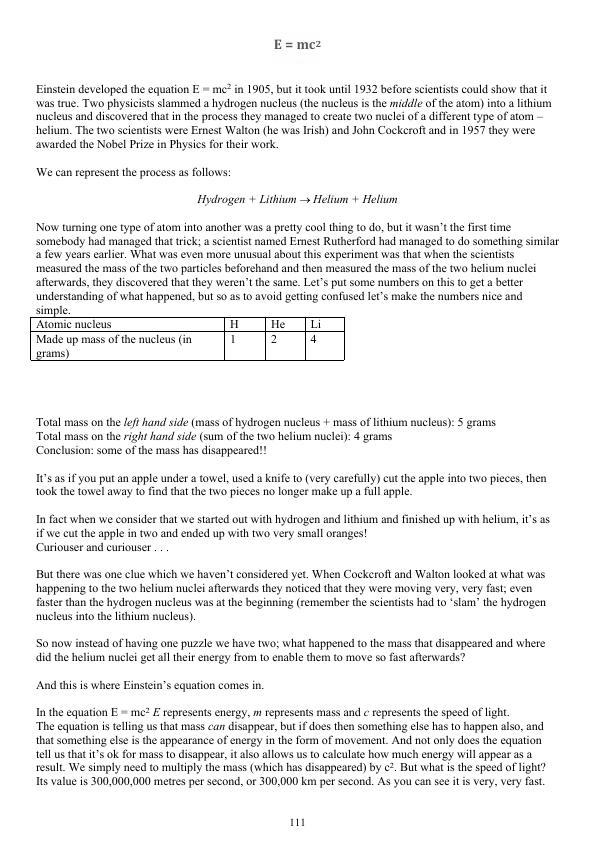table: (27, 313, 353, 369)
text: (33, 220, 562, 317), (31, 702, 548, 793), (31, 80, 556, 155), (30, 566, 552, 626), (33, 511, 556, 558), (31, 413, 502, 460), (31, 468, 553, 501), (33, 635, 552, 667), (195, 189, 400, 211), (32, 678, 265, 693), (31, 164, 231, 181), (270, 36, 324, 54)
